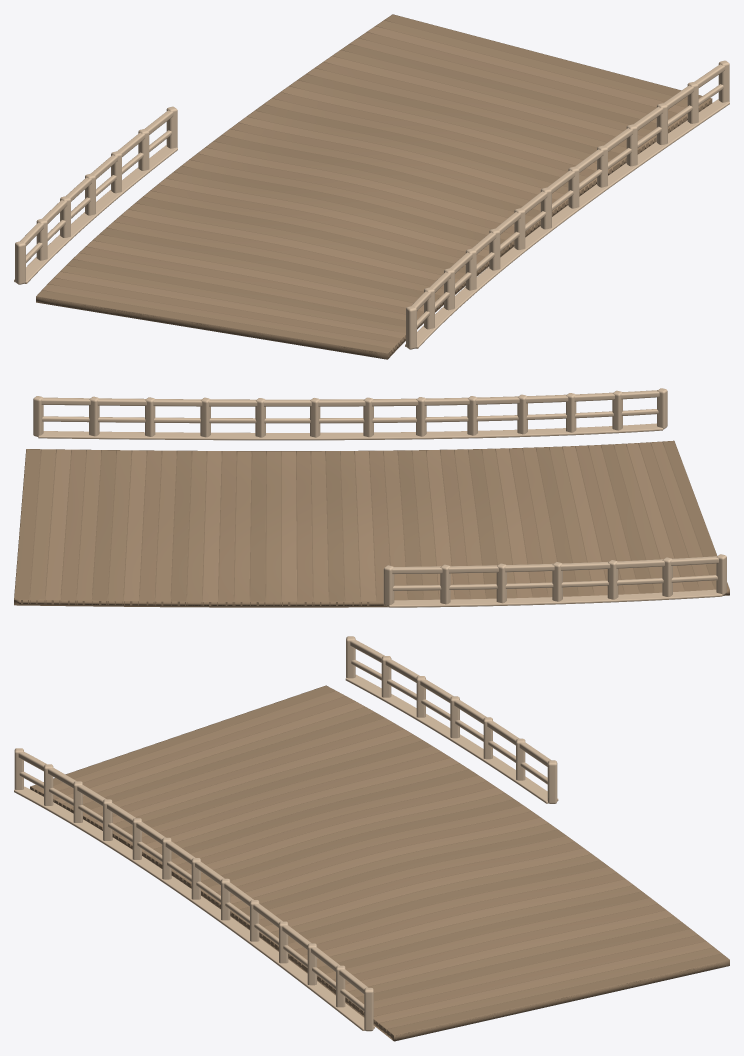
File: city-bridge-v58.glb
3 views of the same model, one above another, from view 1: azimuth 30°, elevation 25°; view 2: azimuth 150°, elevation 25°; view 3: azimuth 270°, elevation 25° (orthographic). The views are drawn at different scales.
Visible parts, largest first — view 1: city-canal-bridge-v58__city_honey_softwood, city-canal-bridge-v58__city_sanded_timber; view 2: city-canal-bridge-v58__city_honey_softwood, city-canal-bridge-v58__city_sanded_timber; view 3: city-canal-bridge-v58__city_honey_softwood, city-canal-bridge-v58__city_sanded_timber.
Part boxes in pixels (x1,y1,x2,y2): city-canal-bridge-v58__city_honey_softwood: (36, 14, 712, 359); city-canal-bridge-v58__city_sanded_timber: (14, 60, 729, 349); city-canal-bridge-v58__city_honey_softwood: (14, 440, 729, 607); city-canal-bridge-v58__city_sanded_timber: (33, 388, 726, 607); city-canal-bridge-v58__city_honey_softwood: (30, 685, 729, 1041); city-canal-bridge-v58__city_sanded_timber: (14, 636, 558, 1031).
Bounding box in the file's own units: 23.22 × 1.59 × 19.77.
